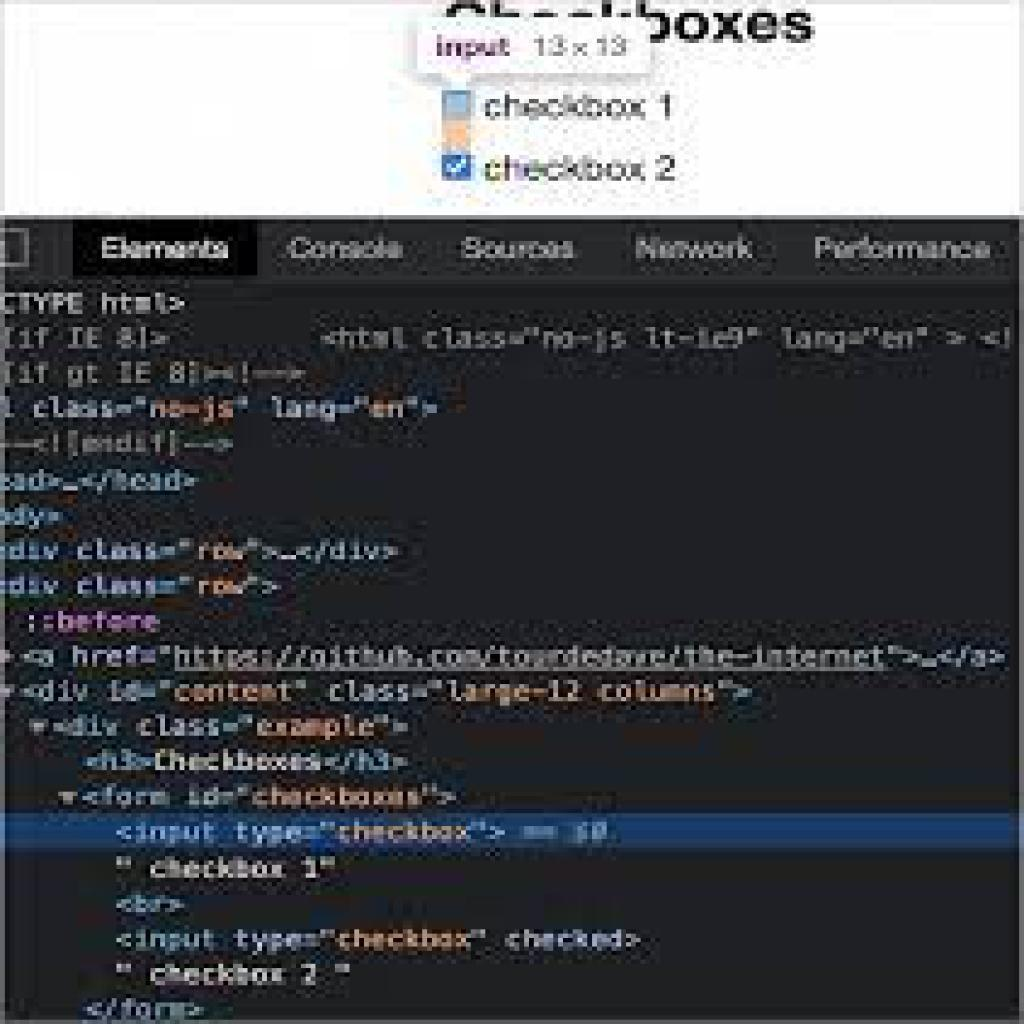checkbox: (441, 90, 475, 118), (442, 154, 474, 182), (441, 124, 475, 148)
label: (482, 150, 681, 187), (484, 90, 680, 126)
